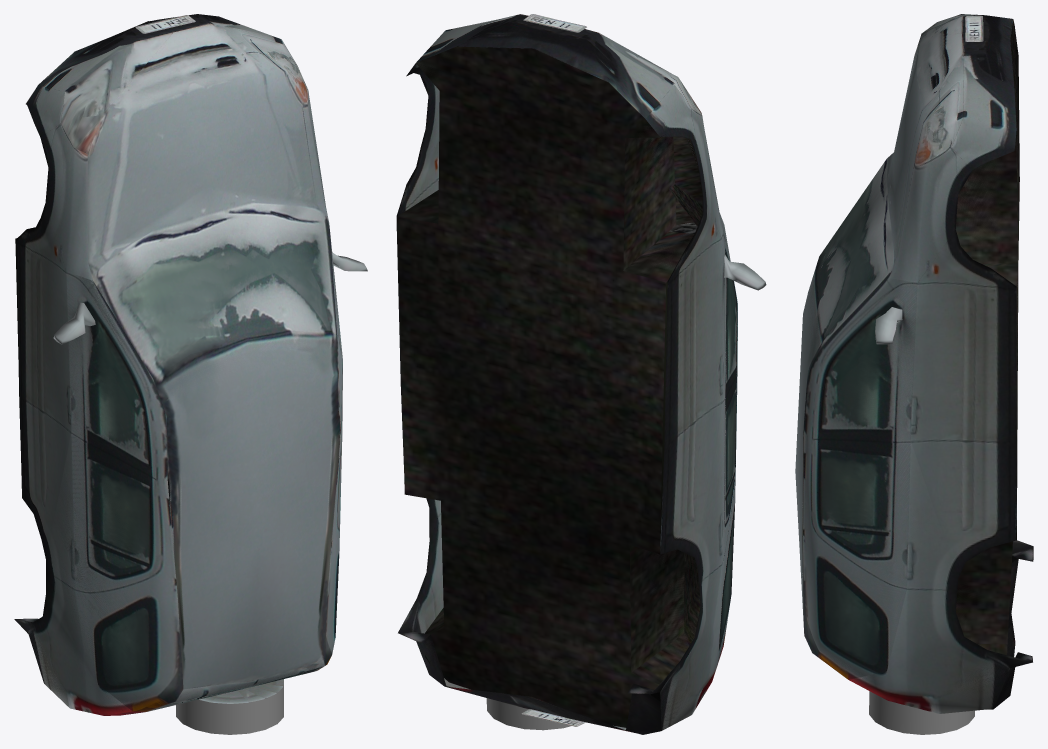
Rendered from SUV.obj.
3 renders of one model, left to right at view 1: azimuth 30°, elevation 25°; view 2: azimuth 150°, elevation 25°; view 3: azimuth 270°, elevation 25°, orthographic. The views are drawn at different scales.
Visible parts, largest first — view 1: Low_poly_SUV-6.002; view 2: Low_poly_SUV-6.002; view 3: Low_poly_SUV-6.002.
Part boxes in pixels (bbox=[...]): Low_poly_SUV-6.002: bbox=[14, 14, 367, 734]; Low_poly_SUV-6.002: bbox=[396, 14, 766, 734]; Low_poly_SUV-6.002: bbox=[795, 14, 1033, 734].
Size of the model in its own units: 2.14 by 4.53 by 1.47.
Materials: 7 (6 with a texture image).
